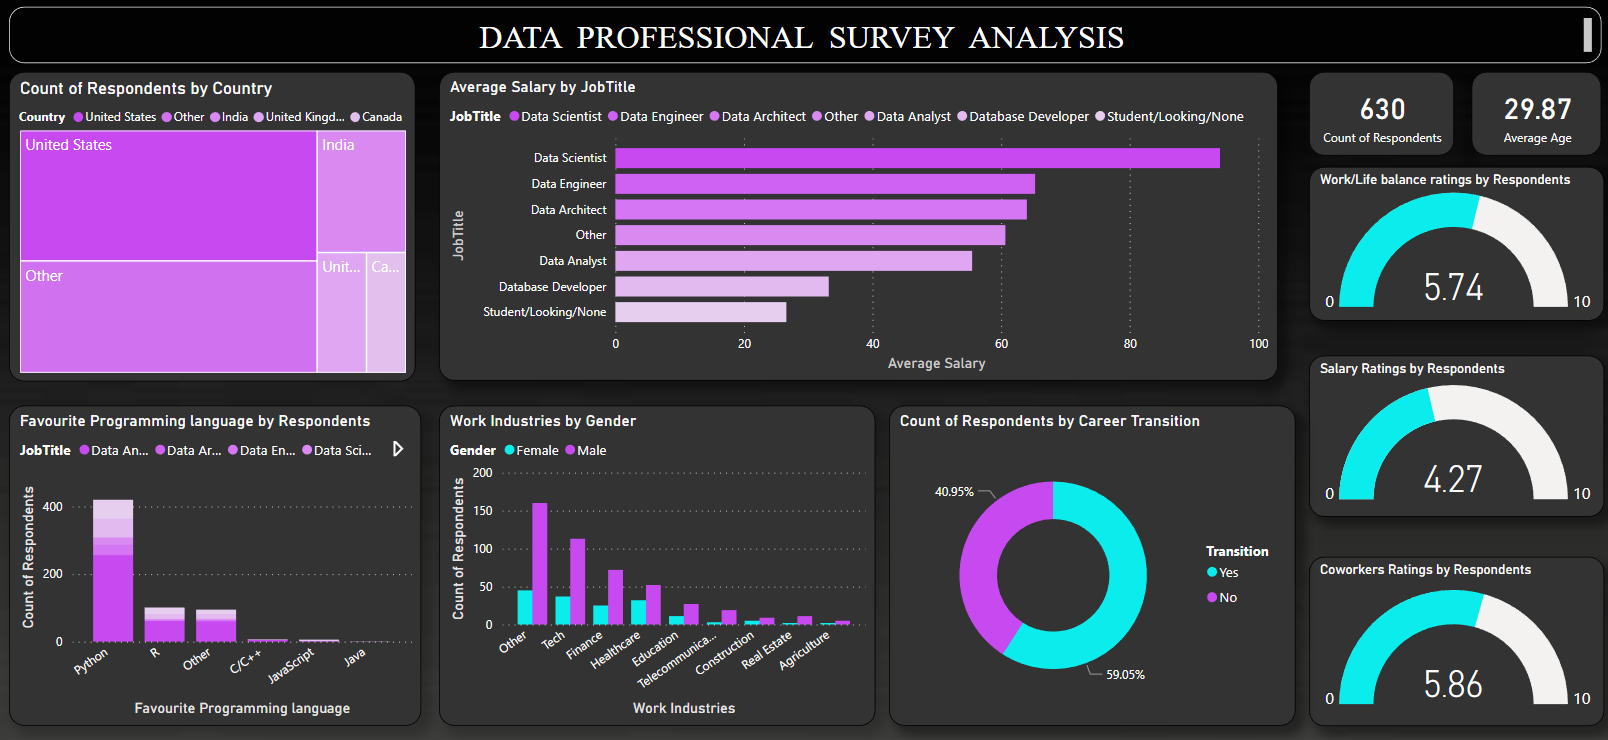

The page's visual inventory and layout, read from the dashboard file:
{"tool":"powerbi","page":{"name":"Survey Report","canvas":[1600,740],"ordinal":0},"visuals":[{"type":"textbox","box":[9.9,8.7,1579.2,55.8],"z":0},{"type":"card","fields":{"Values":["CountNonNull(Data Professional Survey.Unique ID)"]},"box":[1299,73.1,143.8,83],"z":1000},{"type":"card","fields":{"Values":["Avg(Data Professional Survey.Q10 - Current Age)"]},"box":[1460.2,73.1,128.9,83],"z":2000},{"type":"barChart","title":"Average Salary by JobTitle","fields":{"Category":["Data Professional Survey.Q1 - Which Title Best Fits your Current Role?.1"],"Y":["Avg(Data Professional Survey.Average Salary)"],"Series":["Data Professional Survey.Q1 - Which Title Best Fits your Current Role?.1"]},"box":[436.3,73.1,831.7,306.2],"z":3000},{"type":"columnChart","title":"Favourite Programming language by Respondents","fields":{"Category":["Data Professional Survey.Q5 - Favorite Programming Language.1"],"Y":["CountNonNull(Data Professional Survey.Unique ID)"],"Series":["Data Professional Survey.Q1 - Which Title Best Fits your Current Role?.1"]},"box":[9.9,404.1,409,317.3],"z":4000},{"type":"gauge","title":"Work/Life balance ratings by Respondents","fields":{"Y":["Avg(Data Professional Survey.Q6 - How Happy are you in your Current Position with the following? (Work/Life Balance))"],"MinValue":["Min(Data Professional Survey.Q6 - How Happy are you in your Current Position with the following? (Work/Life Balance))"],"MaxValue":["Max(Data Professional Survey.Q6 - How Happy are you in your Current Position with the following? (Work/Life Balance))"]},"box":[1298.6,167.6,293,153],"z":5000},{"type":"treemap","fields":{"Group":["Data Professional Survey.Q11 - Which Country do you live in?.1"],"Values":["CountNonNull(Data Professional Survey.Unique ID)"]},"box":[9.9,73.1,402.8,307.4],"z":6000},{"type":"gauge","title":"Coworkers Ratings by Respondents","fields":{"Y":["Avg(Data Professional Survey.Q6 - How Happy are you in your Current Position with the following? (Coworkers))"],"MinValue":["Min(Data Professional Survey.Q6 - How Happy are you in your Current Position with the following? (Coworkers))"],"MaxValue":["Max(Data Professional Survey.Q6 - How Happy are you in your Current Position with the following? (Coworkers))1"]},"box":[1298.6,553.8,293,167.6],"z":7000},{"type":"gauge","title":"Salary Ratings by Respondents","fields":{"Y":["Avg(Data Professional Survey.Q6 - How Happy are you in your Current Position with the following? (Salary))"],"MinValue":["Min(Data Professional Survey.Q6 - How Happy are you in your Current Position with the following? (Salary))"],"MaxValue":["Max(Data Professional Survey.Q6 - How Happy are you in your Current Position with the following? (Salary))1"]},"box":[1298.6,354.2,293,160.3],"z":8000},{"type":"donutChart","fields":{"Y":["CountNonNull(Data Professional Survey.Unique ID)"],"Category":["Data Professional Survey.Q2 - Did you switch careers into Data?"]},"box":[882.5,404.1,402.8,317.3],"z":9000},{"type":"clusteredColumnChart","title":"Work Industries by Gender","fields":{"Category":["Data Professional Survey.Q4 - What Industry do you work in?.1"],"Y":["CountNonNull(Data Professional Survey.Unique ID)"],"Series":["Data Professional Survey.Q9 - Male/Female?"]},"box":[436.3,404.1,432.6,317.3],"z":10000}]}

Visuals, with their boxes in screenshot pixels (x1, y1, x2, y2), scaled from the page's 1600x740 canvas onto the 1608x740 screenshot:
textbox: <box>10,9,1597,64</box>
card - CountNonNull(Data Professional Survey.Unique ID): <box>1305,73,1450,156</box>
card - Avg(Data Professional Survey.Q10 - Current Age): <box>1468,73,1597,156</box>
"Average Salary by JobTitle" barChart: <box>438,73,1274,379</box>
"Favourite Programming language by Respondents" columnChart: <box>10,404,421,721</box>
"Work/Life balance ratings by Respondents" gauge: <box>1305,168,1600,321</box>
treemap - Data Professional Survey.Q11 - Which Country do you live in?.1 x CountNonNull(Data Professional Survey.Unique ID): <box>10,73,415,380</box>
"Coworkers Ratings by Respondents" gauge: <box>1305,554,1600,721</box>
"Salary Ratings by Respondents" gauge: <box>1305,354,1600,514</box>
donutChart - CountNonNull(Data Professional Survey.Unique ID) x Data Professional Survey.Q2 - Did you switch careers into Data?: <box>887,404,1292,721</box>
"Work Industries by Gender" clusteredColumnChart: <box>438,404,873,721</box>
